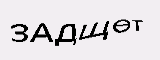А: (30, 21, 53, 45)
Д: (54, 23, 79, 46)
З: (7, 22, 28, 44)
Т: (131, 16, 146, 35)
Щ: (79, 19, 109, 41)
Ө: (111, 17, 132, 37)
